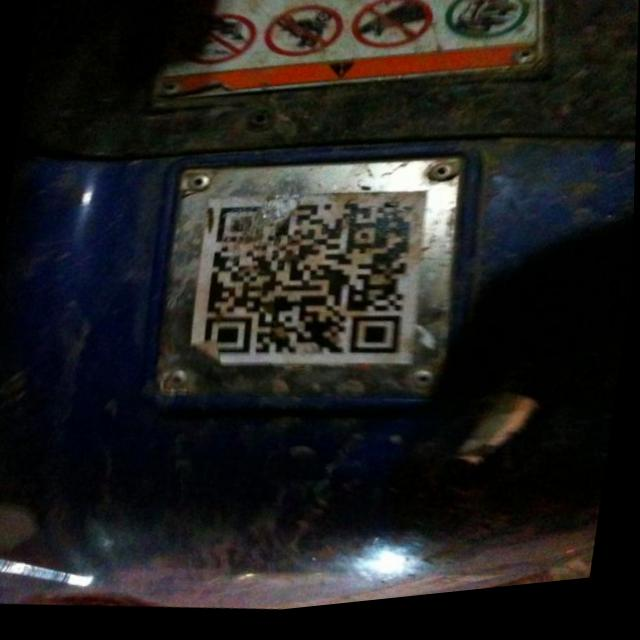qrcode: (203, 187, 420, 380)
